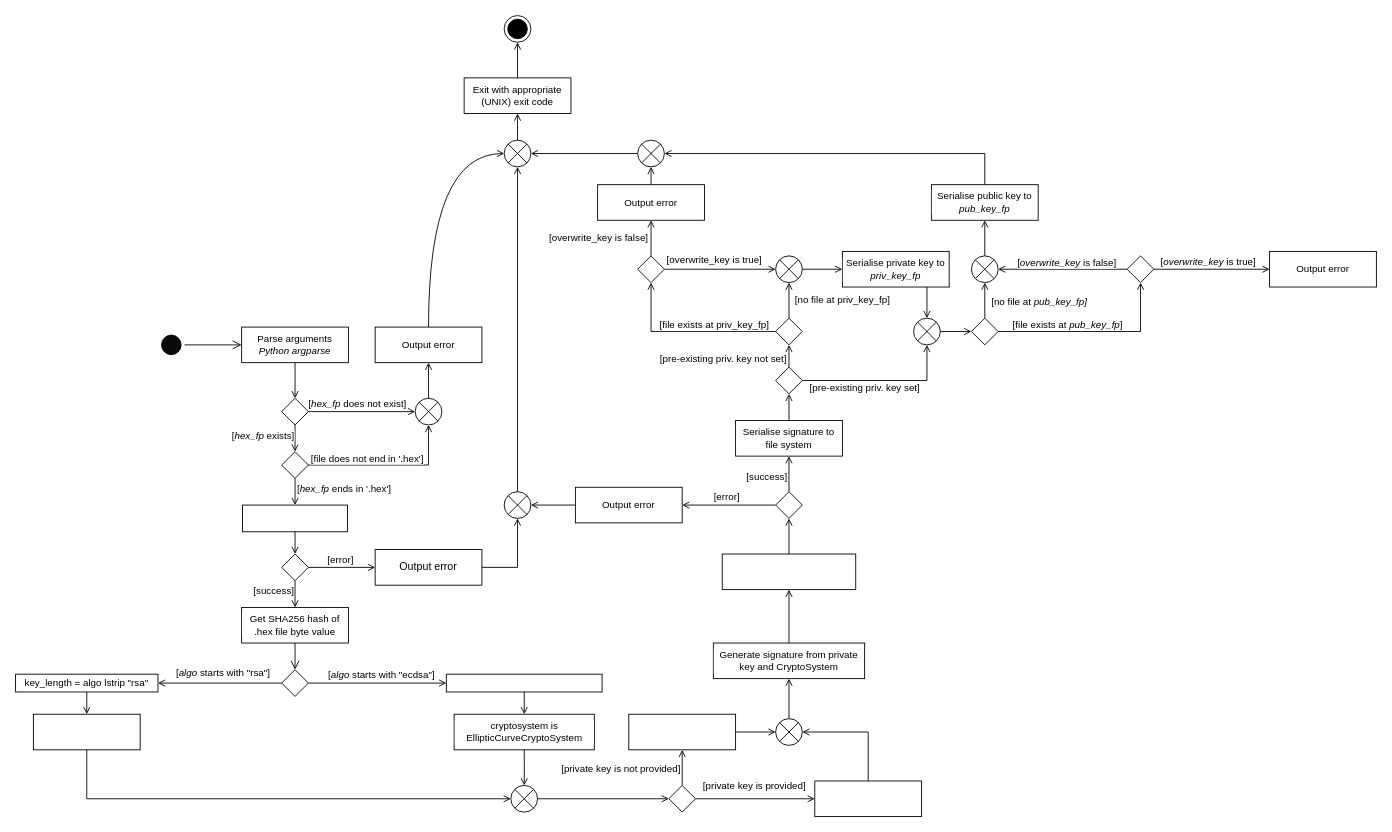
The diagram is 1392 pixels wide and 832 high, and some of its shapes have lost their labels. The centre of each missing label's shape, as x and y in pixels:
Attempt to verify signature using public key: [788,571]
cryptosystem is RSACryptoSystem: [86,731]
Generate key pair from CryptoSystem: [682,731]
Import private key: [868,798]
key_length = algo lstrip "ecdsa": [523,682]
Parse .hex File, convert to byte value: [295,518]
